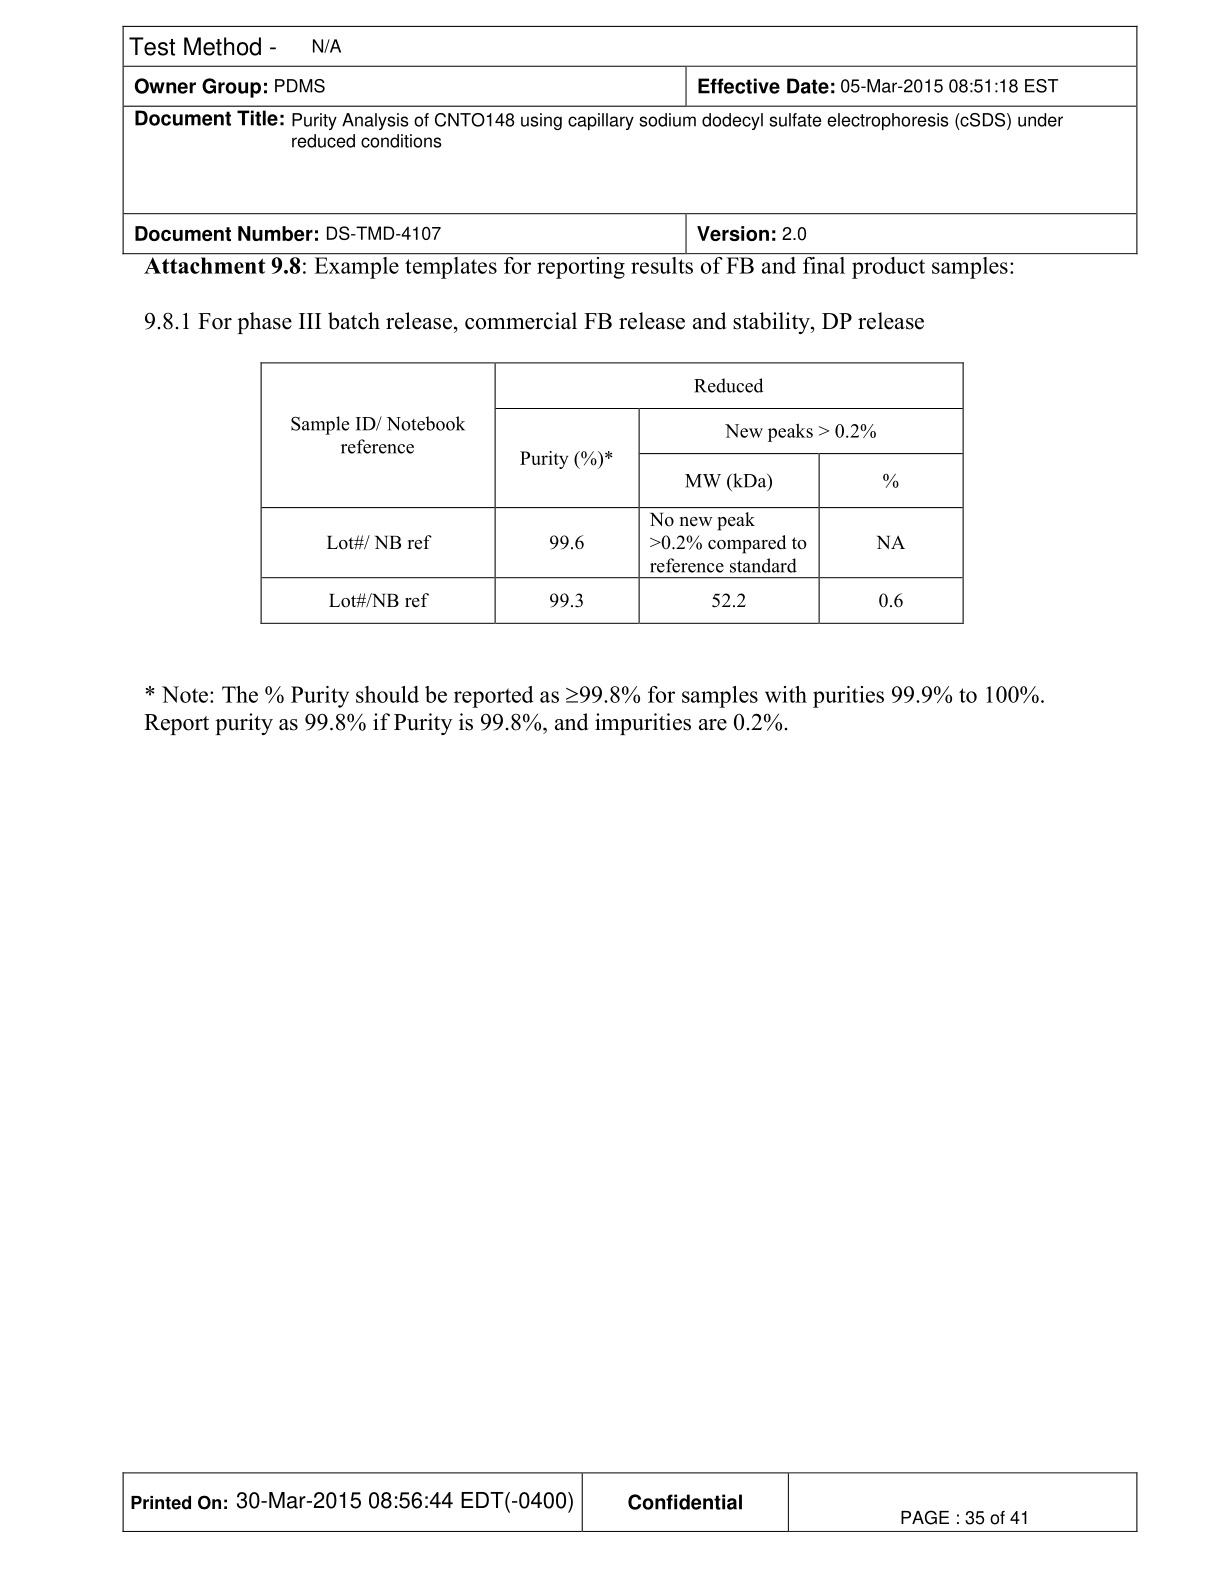full_lined: (122, 1470, 1138, 1533)
merged_cells: (121, 24, 1138, 255), (258, 360, 966, 625)
